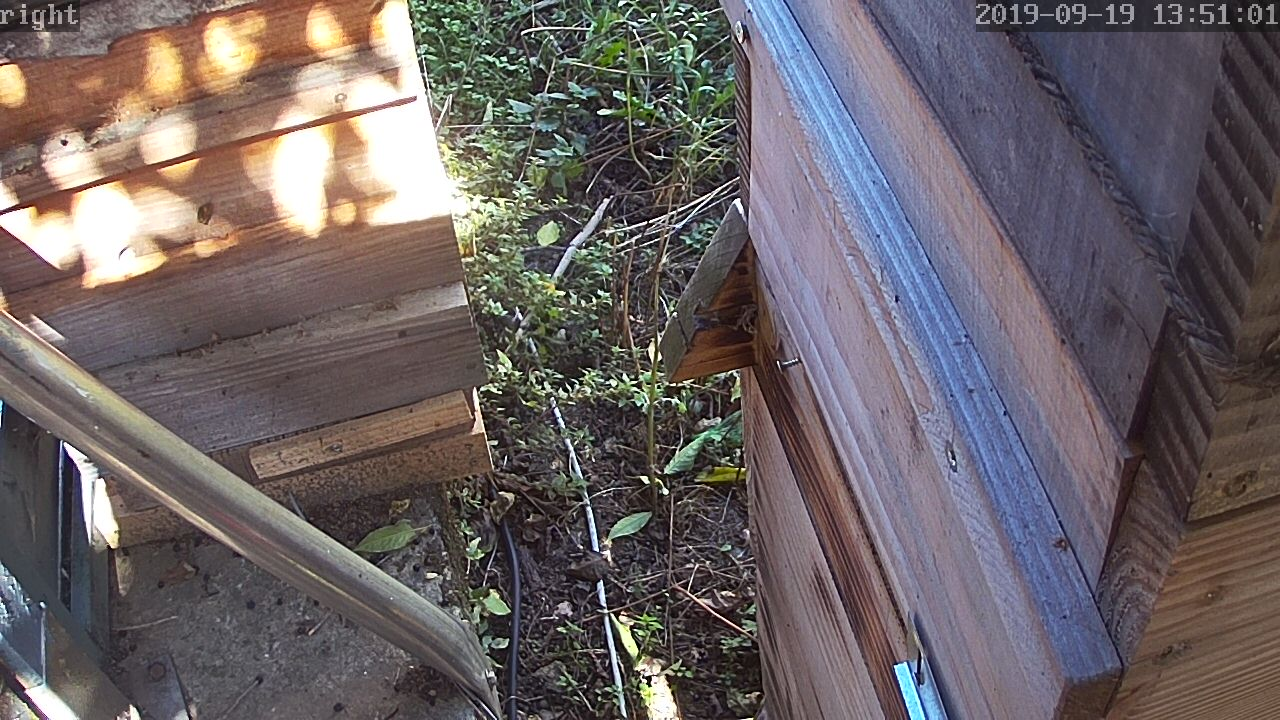hornet: (46, 15, 1235, 720)
